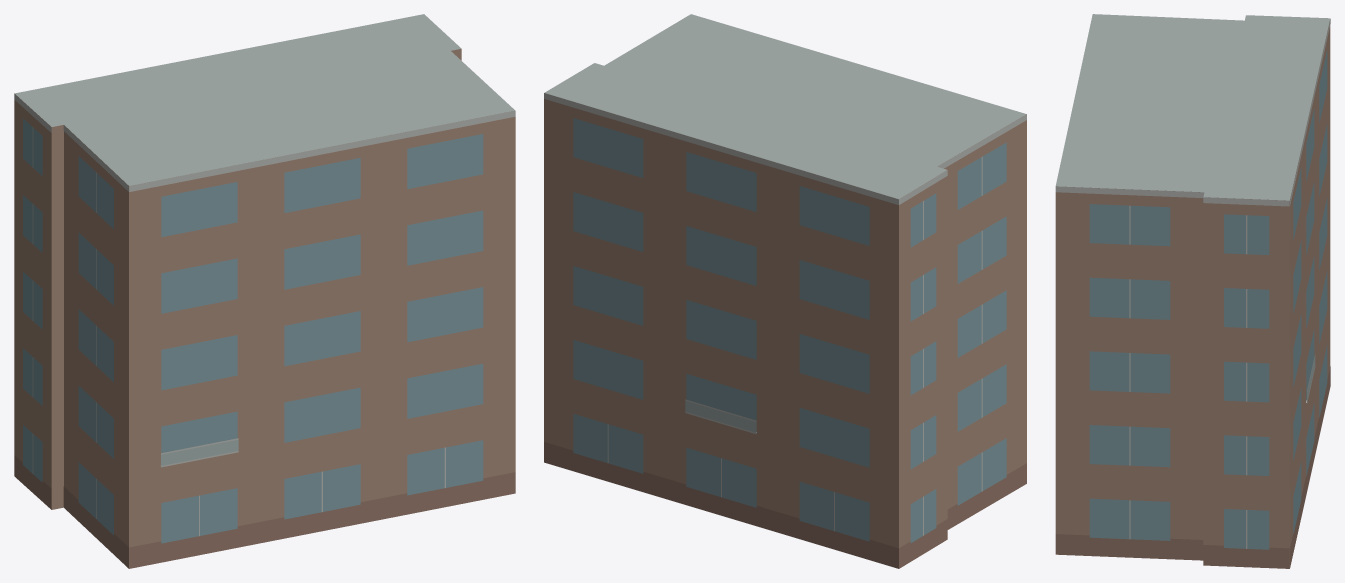
The model's file is survey-upis-32961866.glb.
The picture shows the model from 3 angles, left to right: view 1: azimuth 30°, elevation 25°; view 2: azimuth 150°, elevation 25°; view 3: azimuth 270°, elevation 25°; orthographic projection. The views are drawn at different scales.
Visible parts, largest first — view 1: survey-upis-32961866.tmp; view 2: survey-upis-32961866.tmp; view 3: survey-upis-32961866.tmp.
Part boxes in pixels (x1,y1,x2,y2): survey-upis-32961866.tmp: (14, 14, 515, 568); survey-upis-32961866.tmp: (544, 14, 1026, 568); survey-upis-32961866.tmp: (1055, 14, 1330, 568).
Size of the model in its own units: 16.58 by 15.25 by 10.33.
